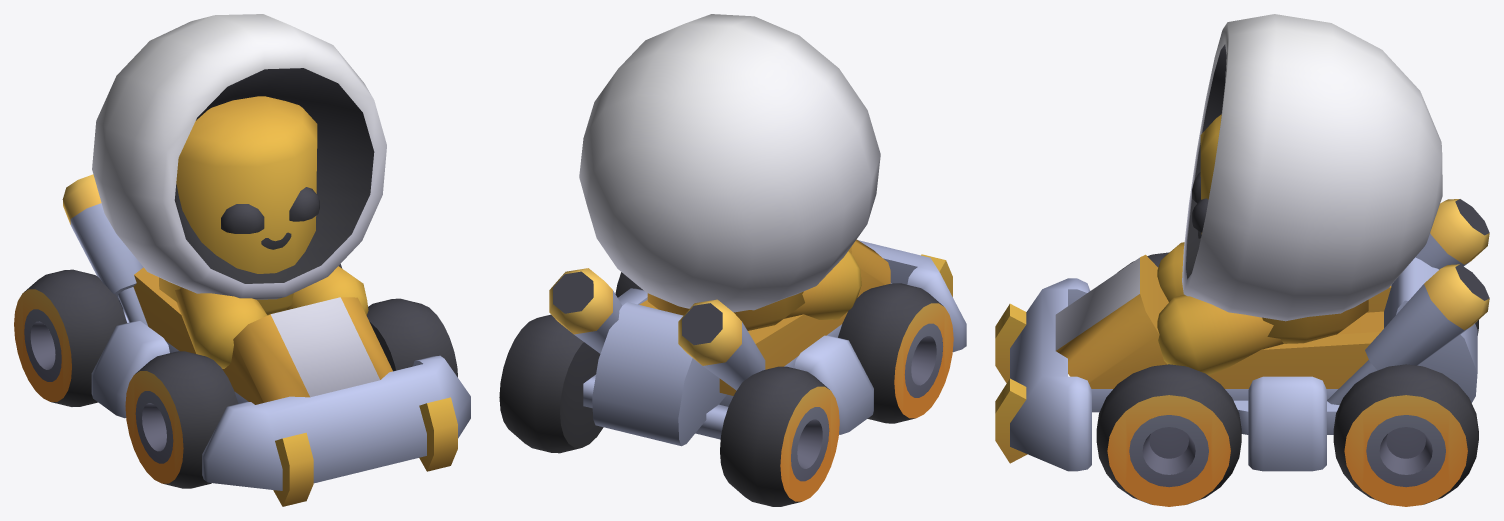
Rendered from kart_c.glb.
3 views of the same model, side by side, from view 1: azimuth 30°, elevation 25°; view 2: azimuth 150°, elevation 25°; view 3: azimuth 270°, elevation 25° (orthographic). The views are drawn at different scales.
Parts seen in each view (by area): view 1: character, kart-ooli, wheel-back-right, wheel-front-right, wheel-front-left; view 2: character, kart-ooli, wheel-back-right, wheel-front-right, wheel-back-left; view 3: character, kart-ooli, wheel-front-left, wheel-back-left.
Part boxes in pixels (left/top/right/bottom): character: left=92, top=14, right=386, bottom=368; kart-ooli: left=62, top=174, right=470, bottom=506; wheel-back-right: left=14, top=269, right=126, bottom=406; wheel-front-right: left=125, top=351, right=238, bottom=488; wheel-front-left: left=366, top=298, right=457, bottom=377; character: left=579, top=14, right=880, bottom=330; kart-ooli: left=549, top=239, right=966, bottom=446; wheel-back-right: left=720, top=366, right=839, bottom=506; wheel-front-right: left=838, top=283, right=953, bottom=423; wheel-back-left: left=499, top=314, right=603, bottom=453; character: left=1157, top=14, right=1442, bottom=375; kart-ooli: left=995, top=199, right=1489, bottom=471; wheel-front-left: left=1096, top=364, right=1241, bottom=506; wheel-back-left: left=1333, top=364, right=1478, bottom=506.
Size of the model in its own units: 0.9743 by 1.33 by 1.43.
Materials: 1 (1 with a texture image).
